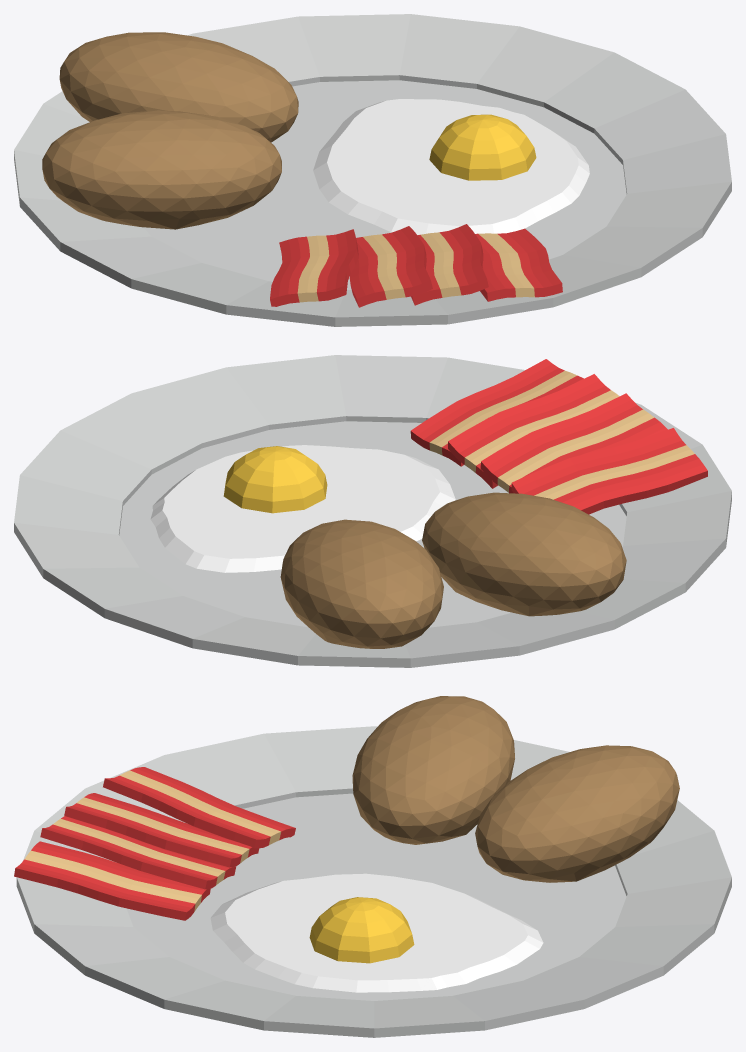
Rendered from egg-bacon-bread.fbx.
The picture shows the model from 3 angles, top to bottom: view 1: azimuth 30°, elevation 25°; view 2: azimuth 150°, elevation 25°; view 3: azimuth 270°, elevation 25°; orthographic projection.
Visible parts, largest first — view 1: Circle, Icosphere.002, Plane, Cube; view 2: Circle, Icosphere.002, Cube, Plane; view 3: Circle, Icosphere.002, Plane, Cube.
Part boxes in pixels (bbox=[...]): Circle: bbox=[14, 14, 731, 326]; Icosphere.002: bbox=[42, 32, 298, 229]; Plane: bbox=[313, 99, 589, 234]; Cube: bbox=[270, 224, 562, 307]; Circle: bbox=[14, 355, 731, 667]; Icosphere.002: bbox=[280, 492, 626, 648]; Cube: bbox=[410, 359, 707, 514]; Plane: bbox=[150, 445, 455, 572]; Circle: bbox=[16, 726, 731, 1037]; Icosphere.002: bbox=[352, 696, 679, 882]; Plane: bbox=[210, 873, 543, 992]; Cube: bbox=[14, 767, 295, 920].
Bounding box in the file's own units: 113 × 17.62 × 114.
Materials: 6 (4 with a texture image).
